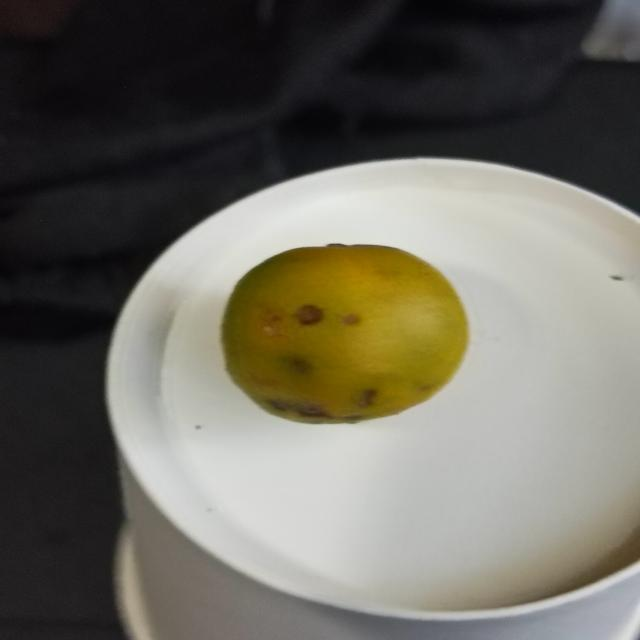black spot: (216, 234, 479, 429)
